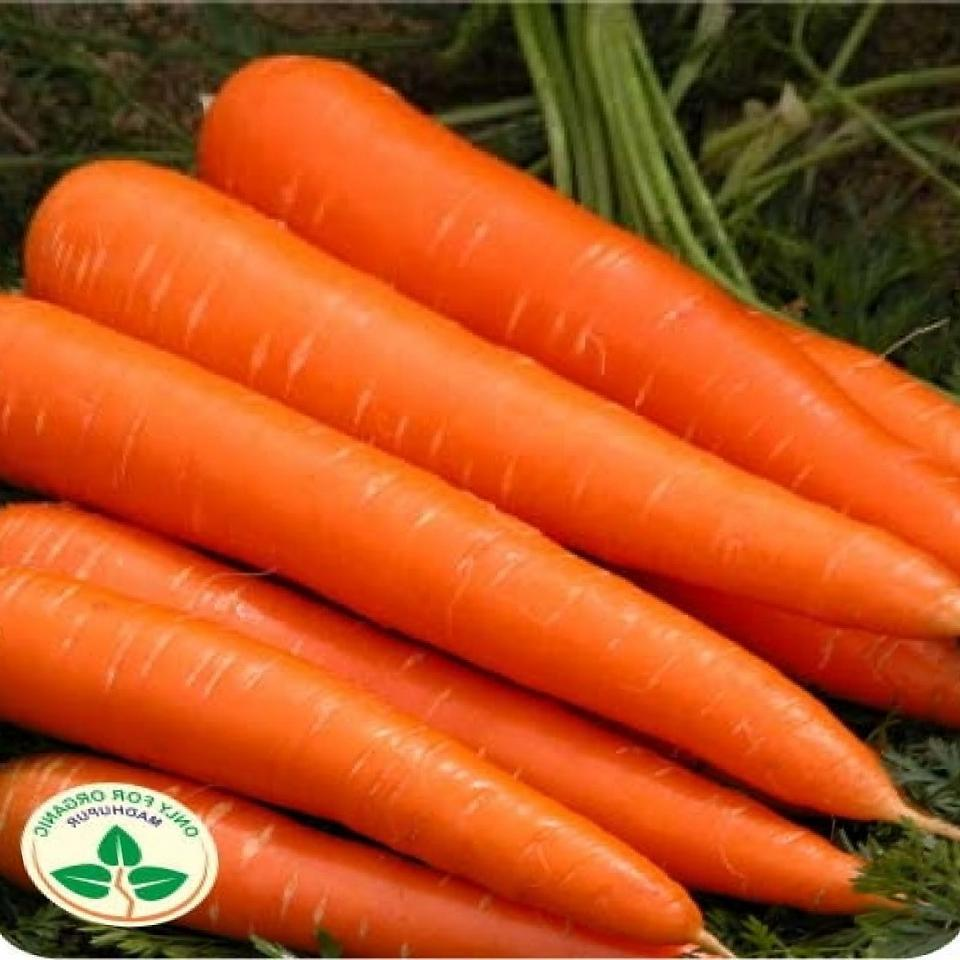carrot: (11, 46, 934, 781)
